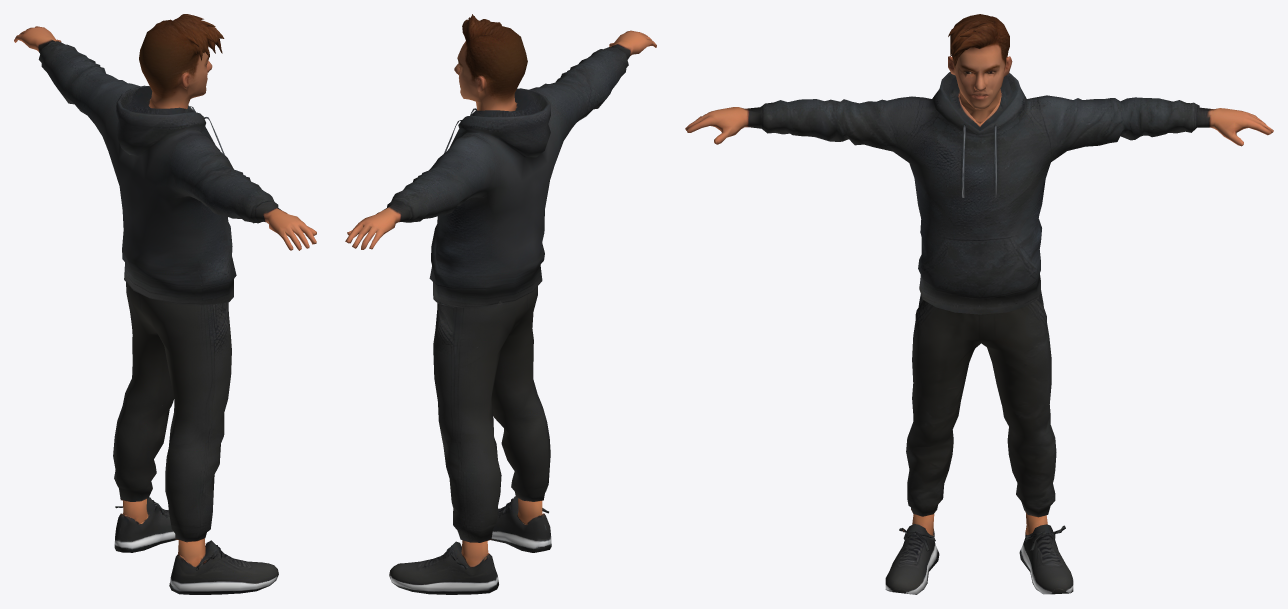
Rendered from streamer-character-base.glb.
3 views of the same model, side by side, from view 1: azimuth 30°, elevation 25°; view 2: azimuth 150°, elevation 25°; view 3: azimuth 270°, elevation 25° (orthographic).
Visible parts, largest first — view 1: tripo_node_7938b875-1064-4e33-b820-a63a002b5a61; view 2: tripo_node_7938b875-1064-4e33-b820-a63a002b5a61; view 3: tripo_node_7938b875-1064-4e33-b820-a63a002b5a61.
Boxes of the visible parts, box(x1,y1,x2,y2) form: tripo_node_7938b875-1064-4e33-b820-a63a002b5a61: box(14, 14, 316, 594); tripo_node_7938b875-1064-4e33-b820-a63a002b5a61: box(345, 14, 656, 594); tripo_node_7938b875-1064-4e33-b820-a63a002b5a61: box(685, 14, 1273, 594).
Bounding box in the file's own units: 0.2285 × 0.998 × 0.9629.
Materials: 1 (1 with a texture image).
